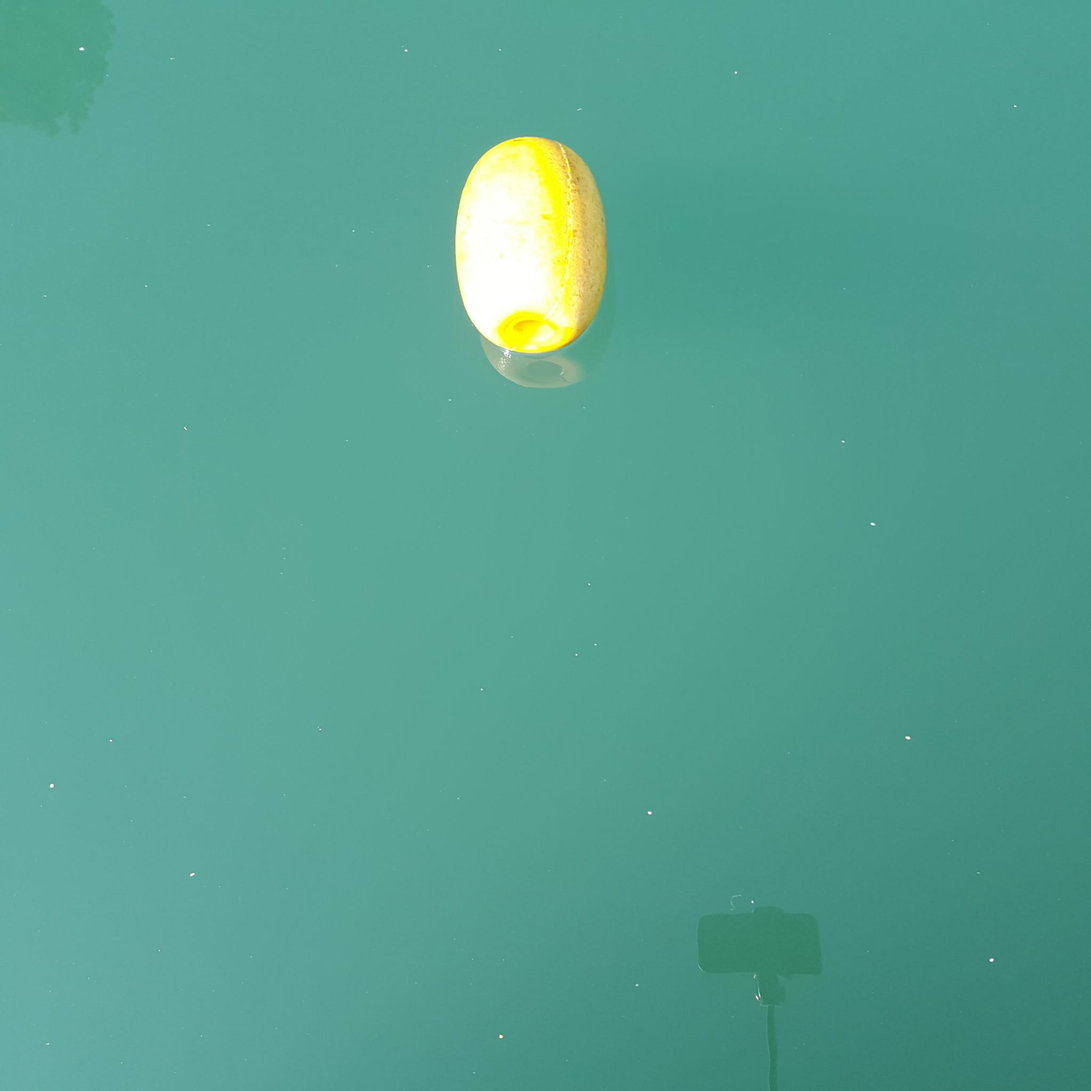sampah_terapung: (454, 137, 608, 355)
